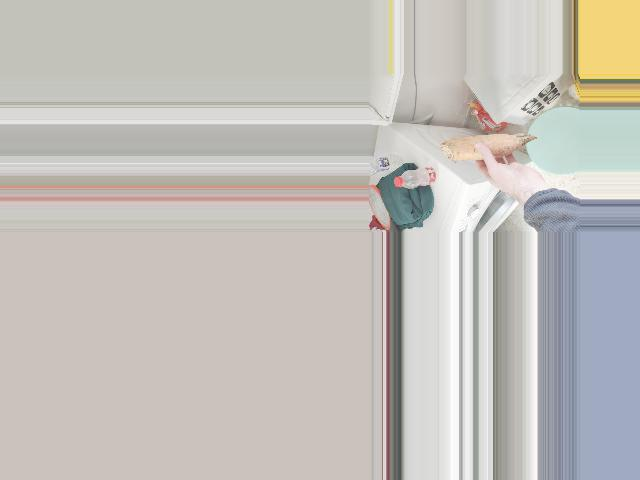sweet_potato: (436, 136, 538, 157)
